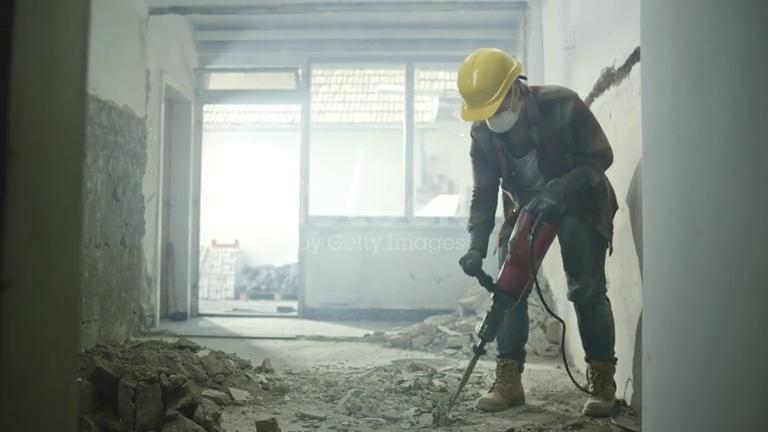helmet: (457, 49, 522, 124)
mask: (483, 100, 522, 133)
person: (457, 48, 621, 415)
